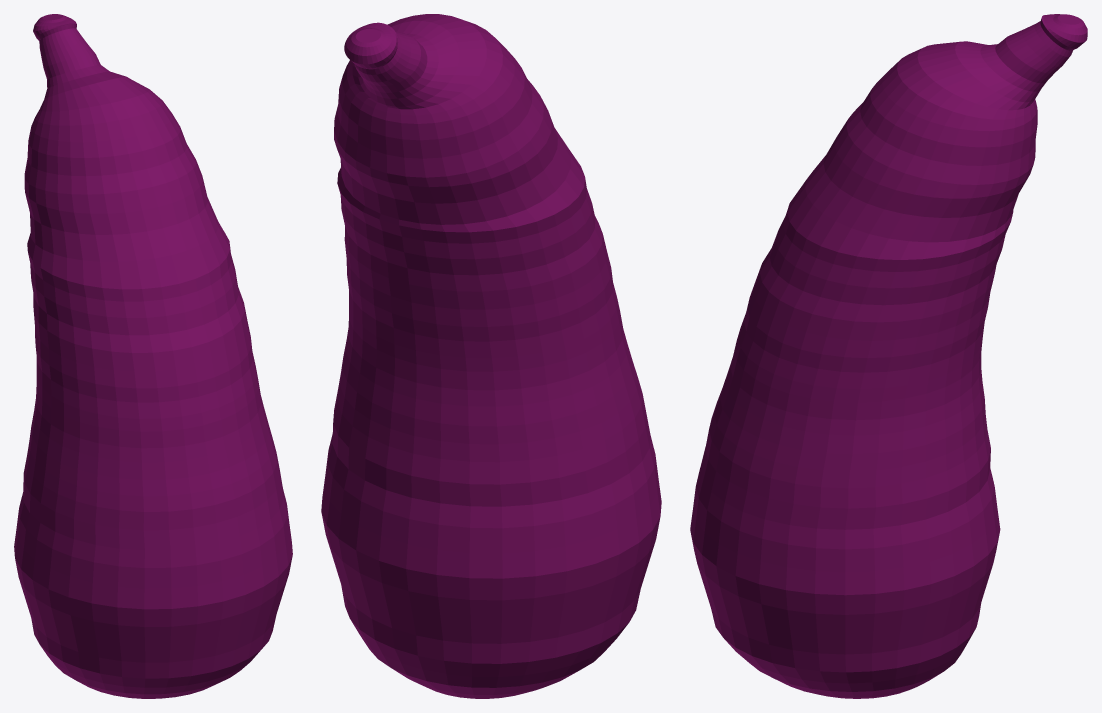
File: eggplant.fbx
3 renders of one model, left to right at view 1: azimuth 30°, elevation 25°; view 2: azimuth 150°, elevation 25°; view 3: azimuth 270°, elevation 25°, orthographic. The views are drawn at different scales.
Visible parts, largest first — view 1: Cylinder; view 2: Cylinder; view 3: Cylinder.
Part boxes in pixels (x1,y1,x2,y2): Cylinder: (14, 14, 292, 698); Cylinder: (321, 14, 661, 698); Cylinder: (690, 14, 1087, 698).
Size of the model in its own units: 322 by 761 by 413.
